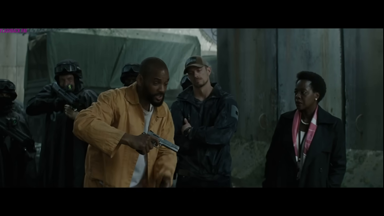firearm: (142, 128, 180, 155), (49, 80, 82, 110)
